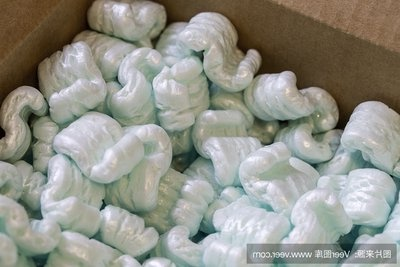5/可回收垃圾/泡沫: (1, 2, 399, 266)
